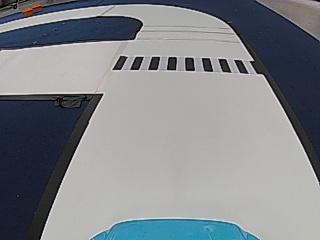CrossWalk: (110, 54, 257, 74)
